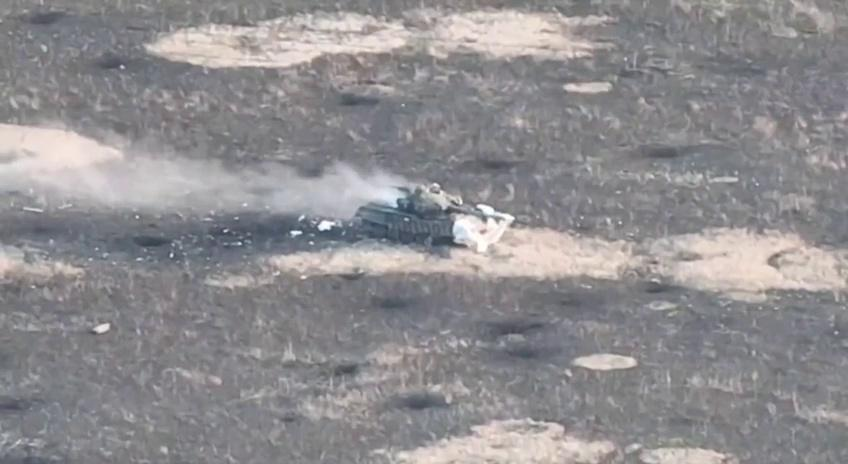vehicle: (348, 181, 515, 253)
